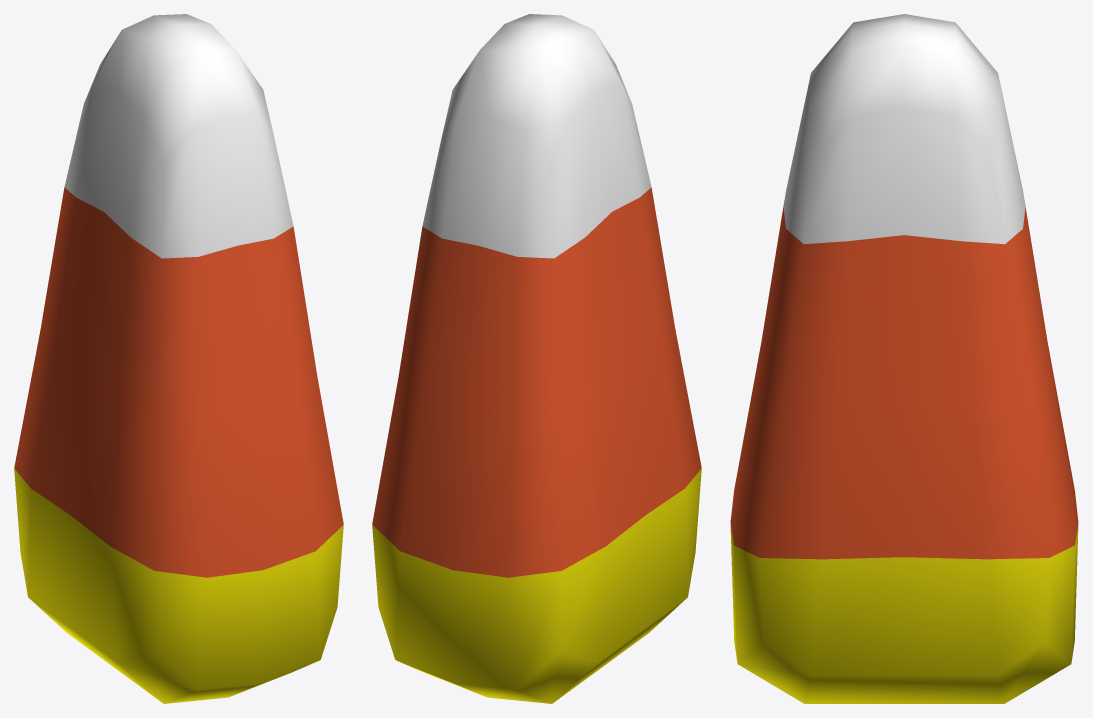
The model's file is MM_GiantCandyCorn.fbx.
3 renders of one model, left to right at view 1: azimuth 30°, elevation 25°; view 2: azimuth 150°, elevation 25°; view 3: azimuth 270°, elevation 25°, orthographic. The views are drawn at different scales.
Visible parts, largest first — view 1: MM_GiantCandyCorn; view 2: MM_GiantCandyCorn; view 3: MM_GiantCandyCorn.
Boxes of the visible parts, x1,y1,x2,y2 form: MM_GiantCandyCorn: (14, 14, 343, 703); MM_GiantCandyCorn: (372, 14, 701, 703); MM_GiantCandyCorn: (730, 14, 1078, 703).
Bounding box in the file's own units: 40.93 × 115 × 55.14.
